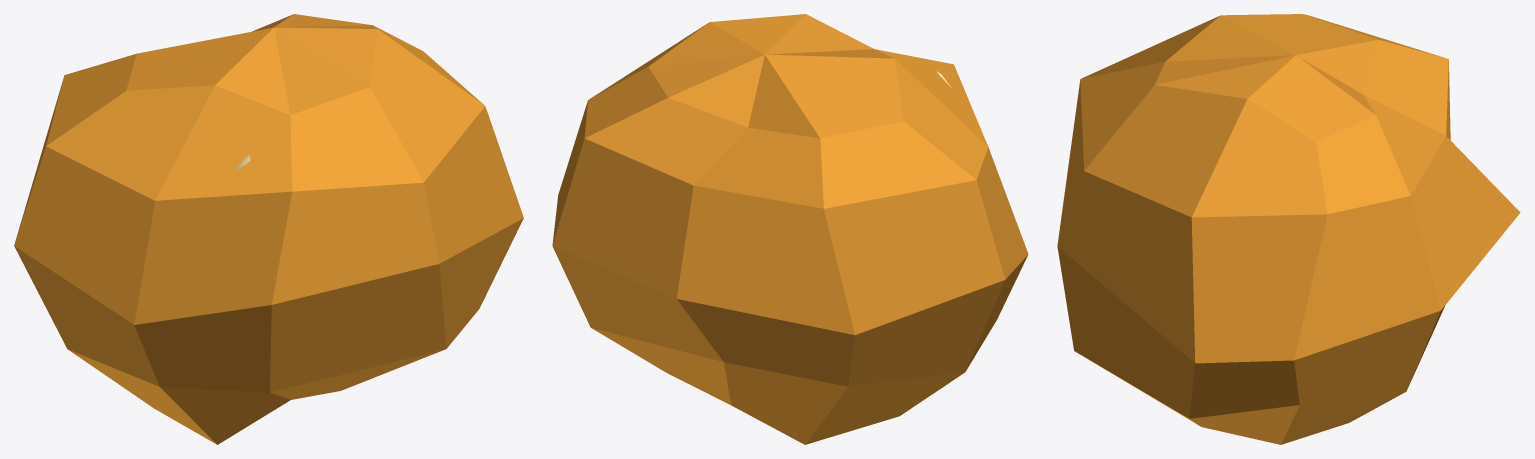
Rendered from fossil-amber.glb.
3 renders of one model, left to right at view 1: azimuth 30°, elevation 25°; view 2: azimuth 150°, elevation 25°; view 3: azimuth 270°, elevation 25°, orthographic. The views are drawn at different scales.
Visible parts, largest first — view 1: fossil; view 2: fossil; view 3: fossil.
Boxes of the visible parts, <box> form: fossil: <box>14,14,523,444</box>; fossil: <box>552,14,1028,444</box>; fossil: <box>1057,14,1520,444</box>.
Bounding box in the file's own units: 0.2088 × 0.1555 × 0.1765.
